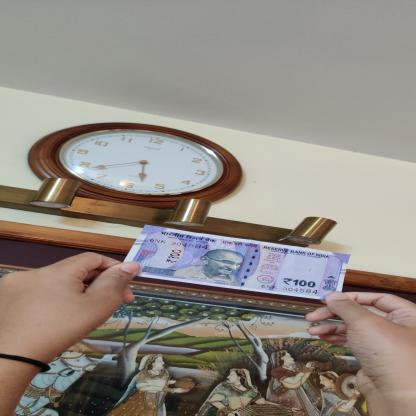New100Front: (116, 224, 356, 300)
